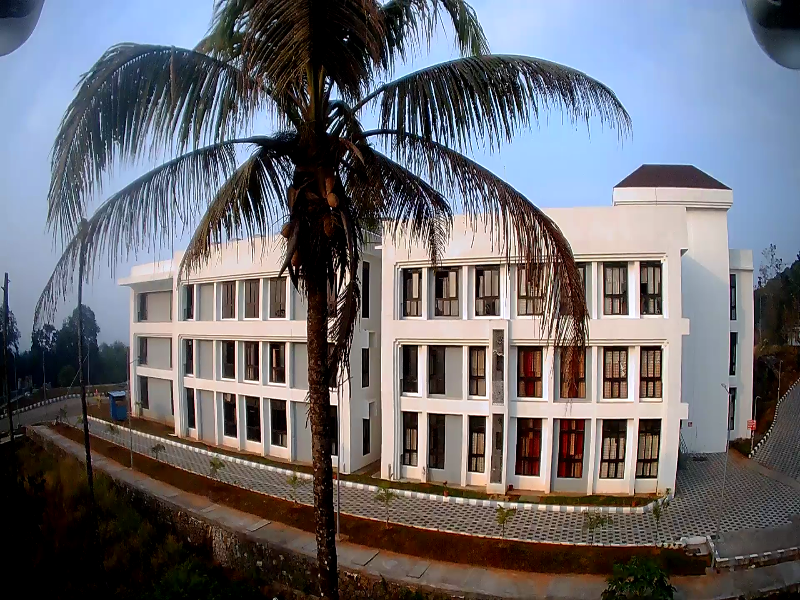coconut: (325, 191, 343, 209), (280, 220, 294, 238)
